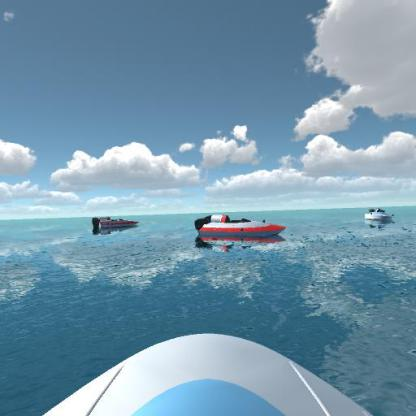usv1: (363, 203, 397, 226)
usv3: (188, 206, 299, 248), (83, 208, 147, 238)
